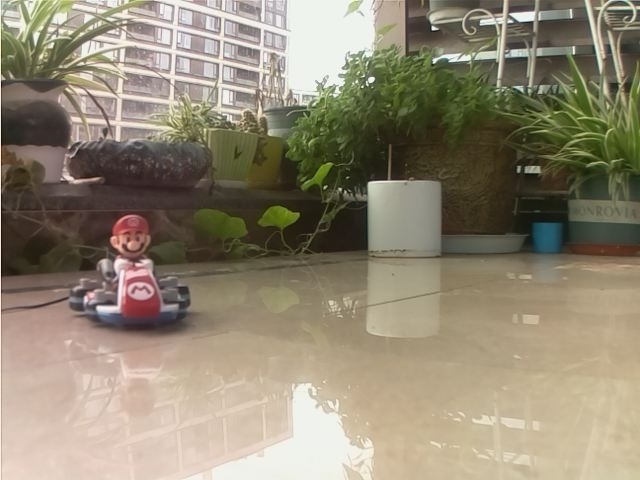mario: (57, 199, 212, 338)
